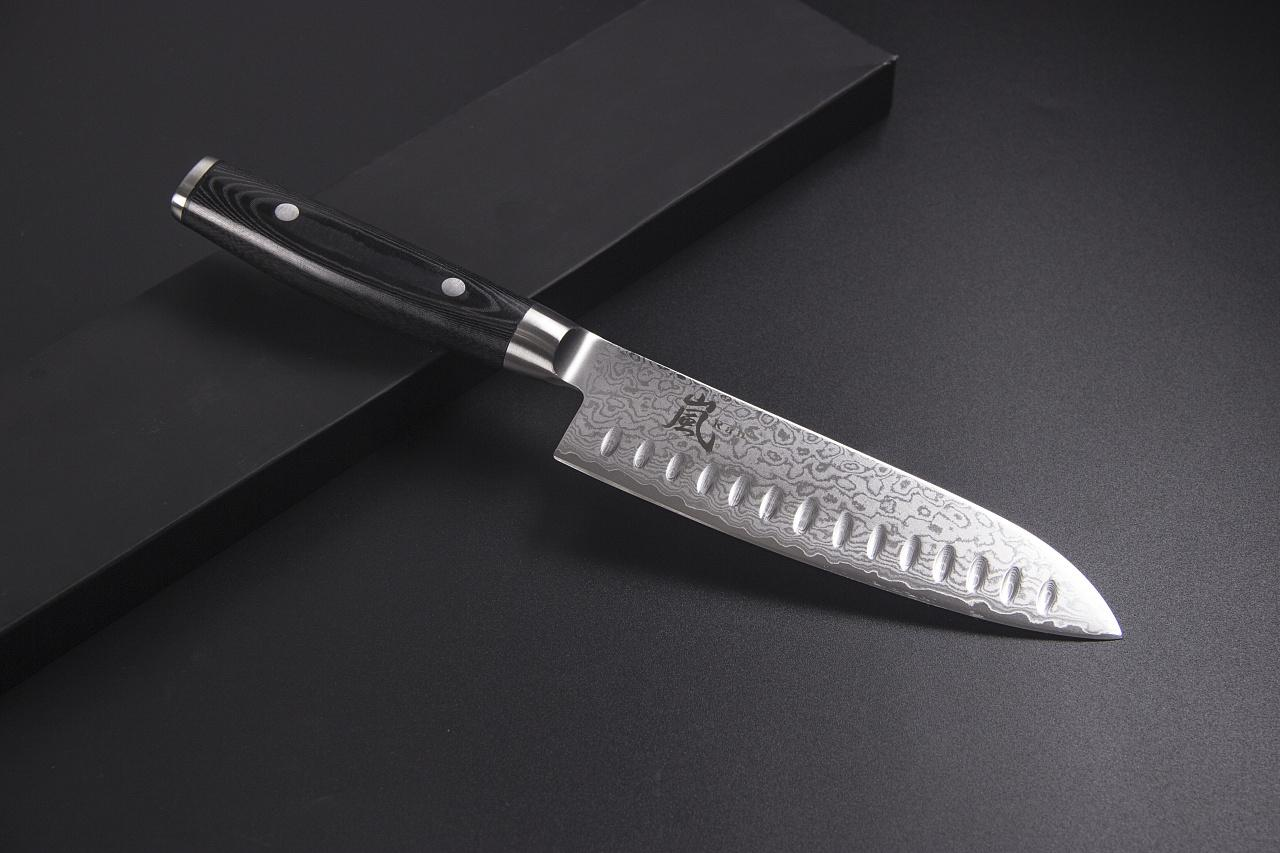knife: (128, 100, 1194, 714)
